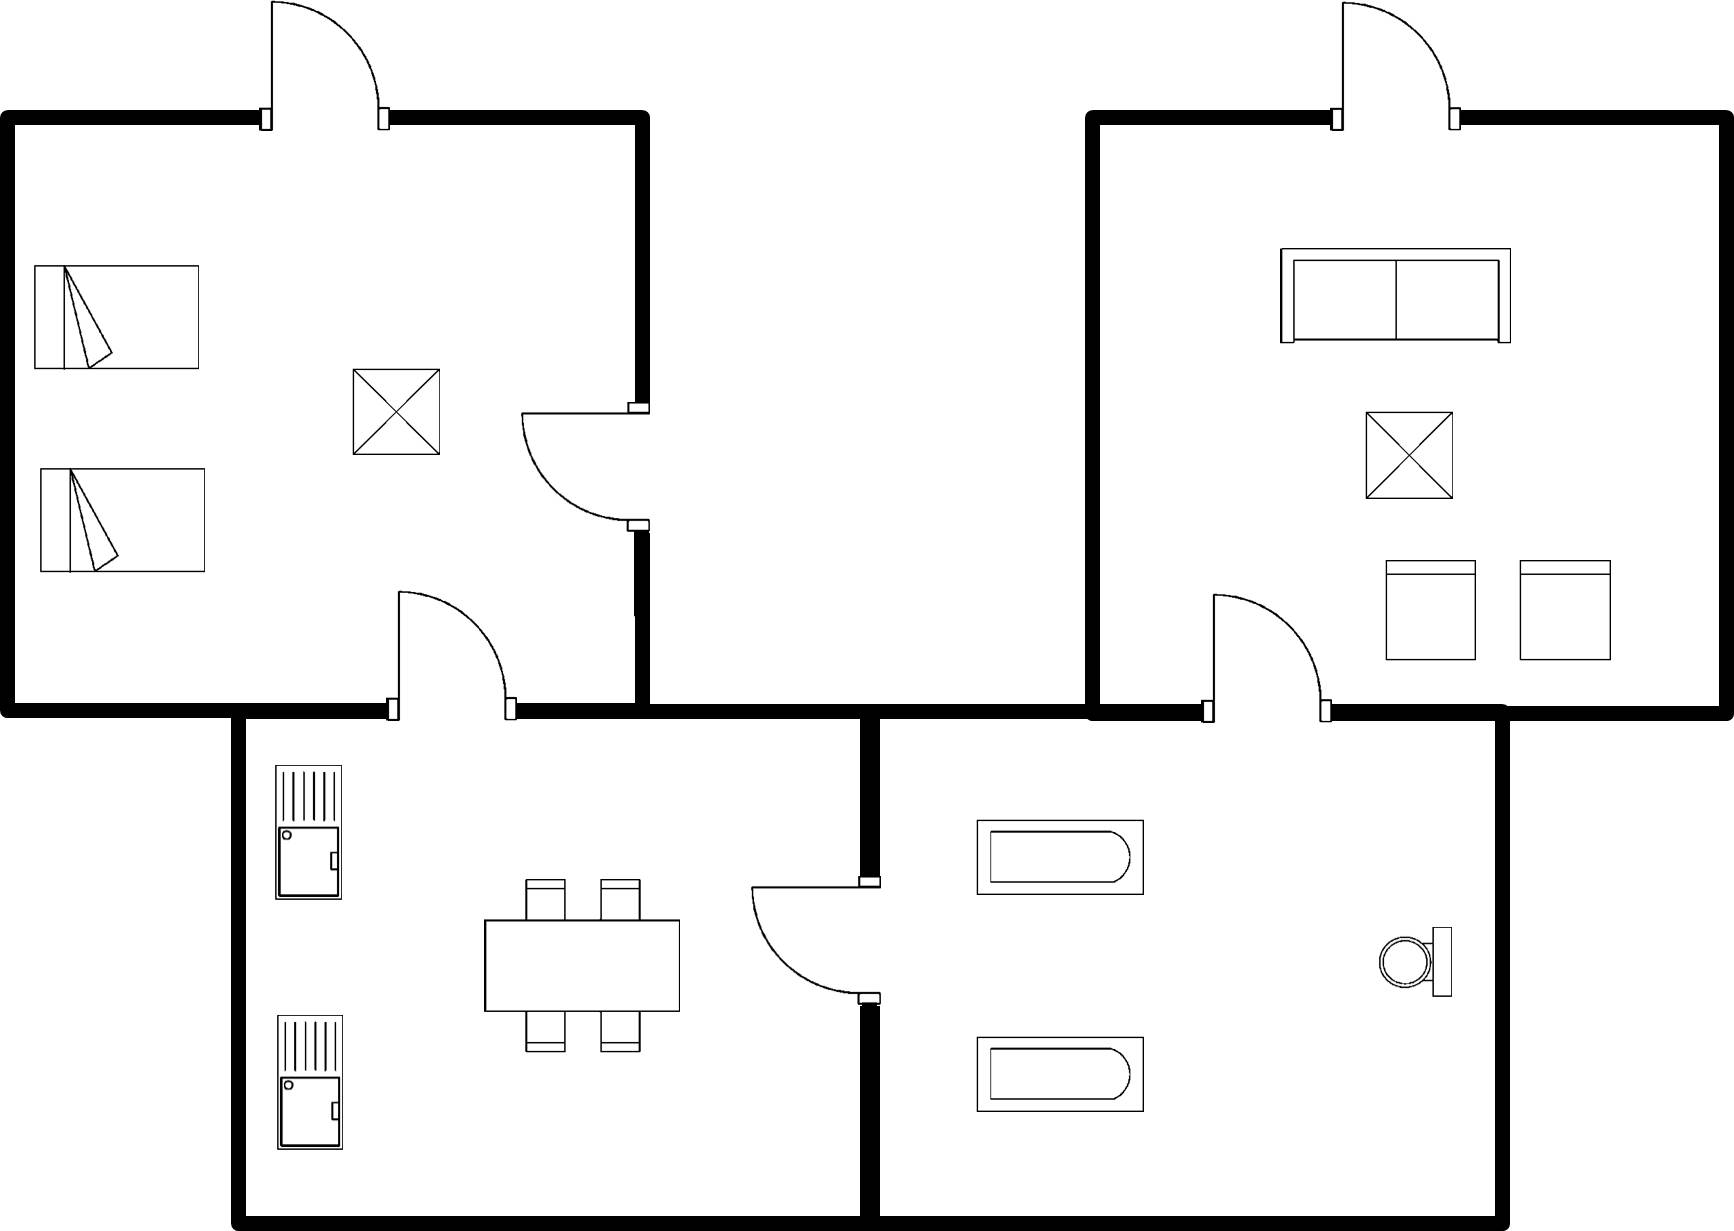bed: (31, 463, 213, 584), (26, 257, 206, 379)
coffee_table: (1358, 404, 1466, 511), (343, 362, 451, 463)
dining_table: (469, 868, 692, 1061)
large_sink: (1371, 918, 1462, 1010)
large_sofa: (1273, 237, 1522, 352)
sink: (264, 756, 352, 910), (268, 1006, 353, 1161)
small_sofa: (1508, 553, 1624, 671), (1377, 551, 1483, 672)
tub: (961, 811, 1158, 906), (967, 1027, 1152, 1124)
